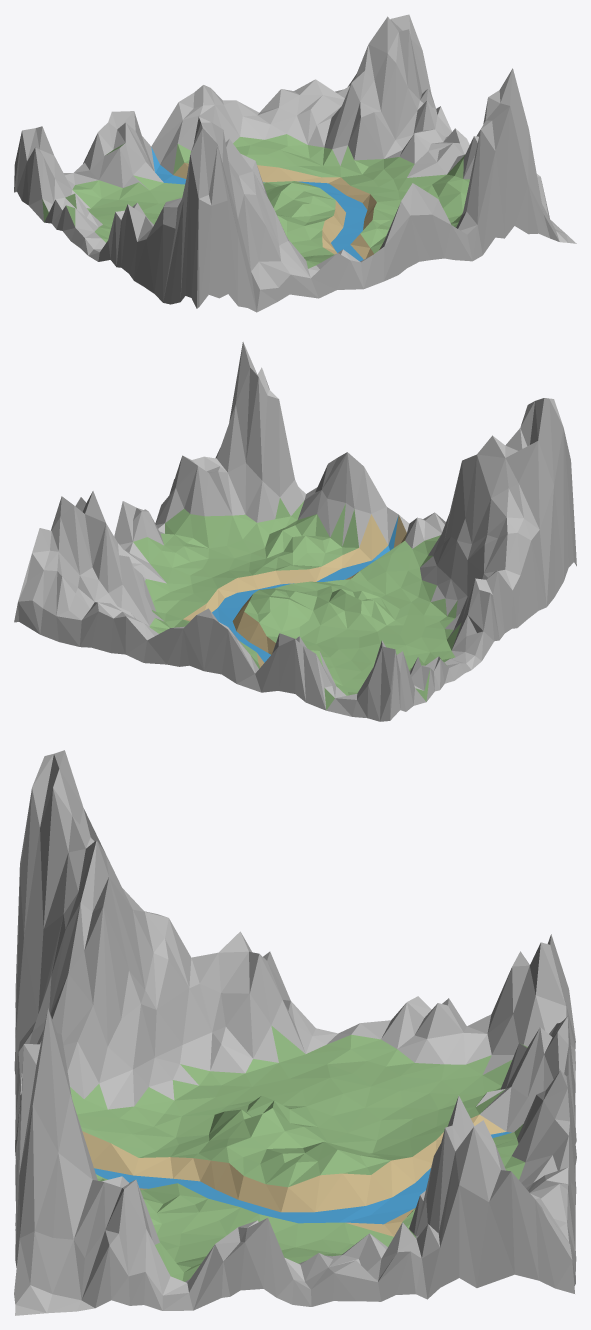
Rendered from MOUNTAIN WITH COLORS.fbx.
3 views of the same model, one above another, from view 1: azimuth 30°, elevation 25°; view 2: azimuth 150°, elevation 25°; view 3: azimuth 270°, elevation 25° (orthographic). The views are drawn at different scales.
Parts seen in each view (by area): view 1: map1:Mesh; view 2: map1:Mesh; view 3: map1:Mesh.
Part boxes in pixels (x1=…): map1:Mesh: x1=14, y1=14, x2=576, y2=312; map1:Mesh: x1=14, y1=342, x2=576, y2=721; map1:Mesh: x1=14, y1=750, x2=576, y2=1315.
Bounding box in the file's own units: 732 × 374 × 628.
